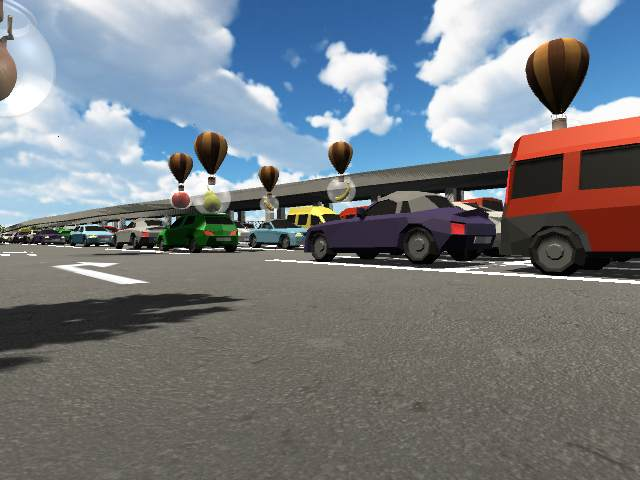ground_right: (52, 257, 120, 270)
